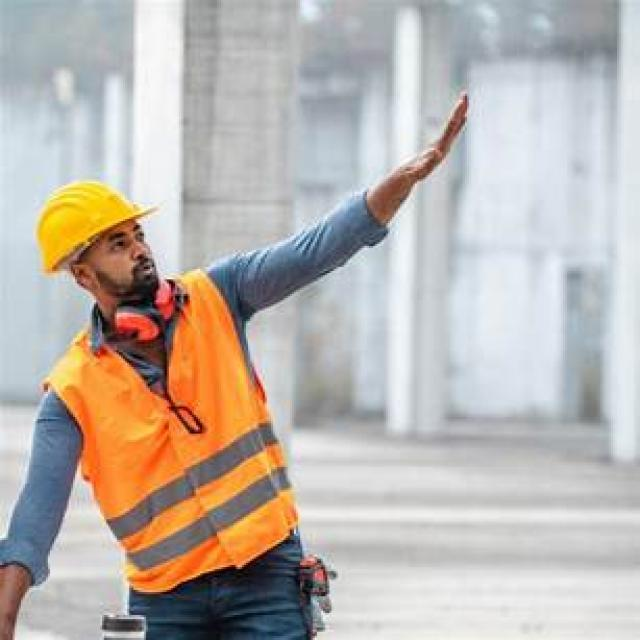not-gloved: (388, 84, 486, 213)
